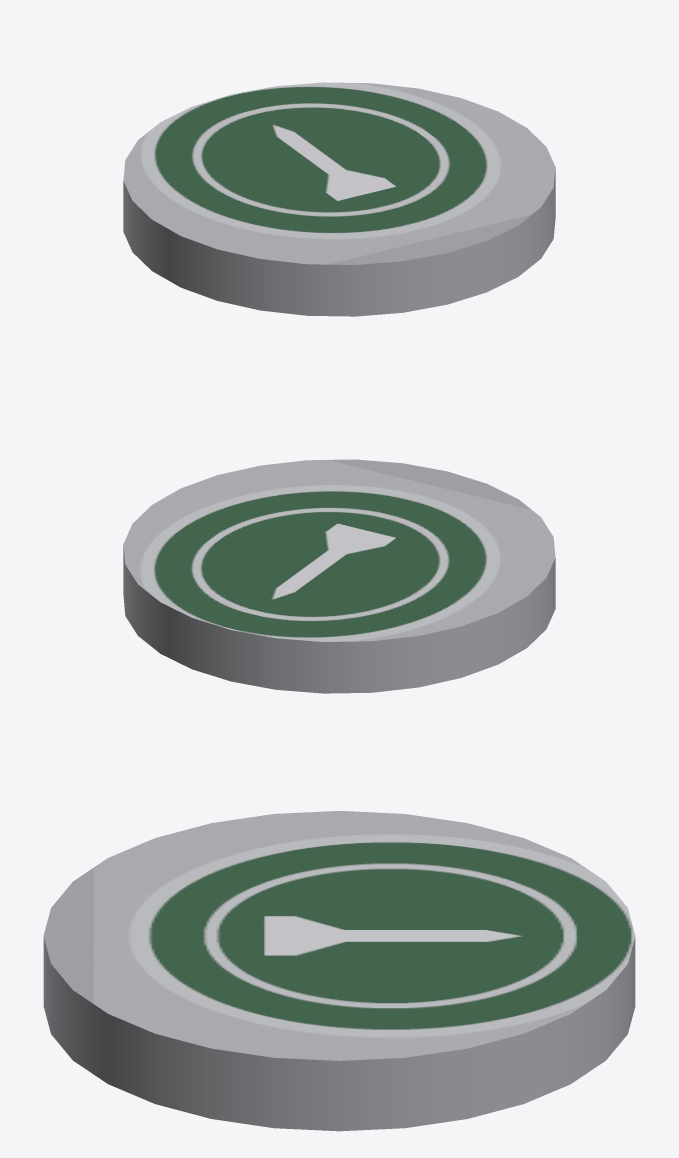
The model's file is pf_marker_enamel.glb.
3 views of the same model, one above another, from view 1: azimuth 30°, elevation 25°; view 2: azimuth 150°, elevation 25°; view 3: azimuth 270°, elevation 25° (orthographic). The views are drawn at different scales.
Visible parts, largest first — view 1: pf_marker_enamel_body; view 2: pf_marker_enamel_body; view 3: pf_marker_enamel_body.
Boxes of the visible parts, bbox=[...] form: pf_marker_enamel_body: bbox=[123, 82, 555, 316]; pf_marker_enamel_body: bbox=[123, 459, 555, 693]; pf_marker_enamel_body: bbox=[43, 811, 635, 1131].
Bounding box in the file's own units: 0.0352 × 0.006 × 0.0352.
2 materials, 1 textured.
